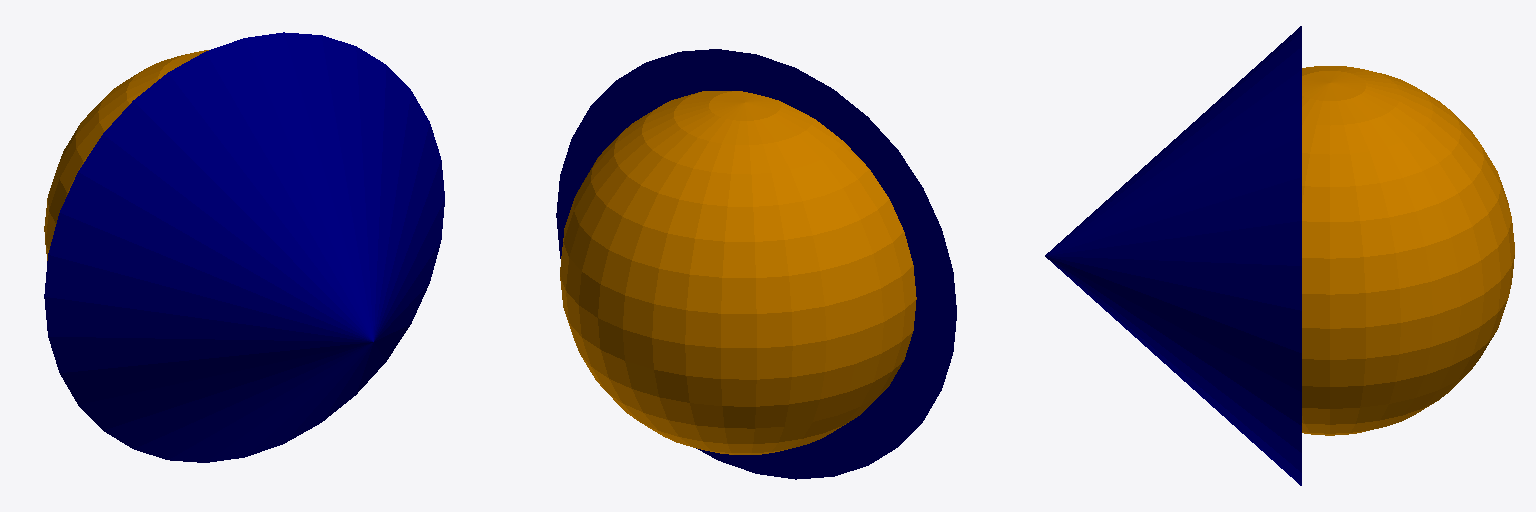
The picture shows the model from 3 angles: view 1: azimuth 30°, elevation 25°; view 2: azimuth 150°, elevation 25°; view 3: azimuth 270°, elevation 25°; orthographic projection.
Parts seen in each view (by area): view 1: Cone_Cone.001, Sphere; view 2: Sphere, Cone_Cone.001; view 3: Sphere, Cone_Cone.001.
Boxes of the visible parts, x1,y1,x2,y2 form: Cone_Cone.001: [44, 32, 444, 462]; Sphere: [44, 50, 208, 260]; Sphere: [560, 91, 916, 454]; Cone_Cone.001: [556, 49, 956, 479]; Sphere: [1302, 66, 1514, 435]; Cone_Cone.001: [1045, 26, 1301, 485].
Size of the model in its own units: 2 by 2 by 2.03.
Materials: 2 (1 with a texture image).